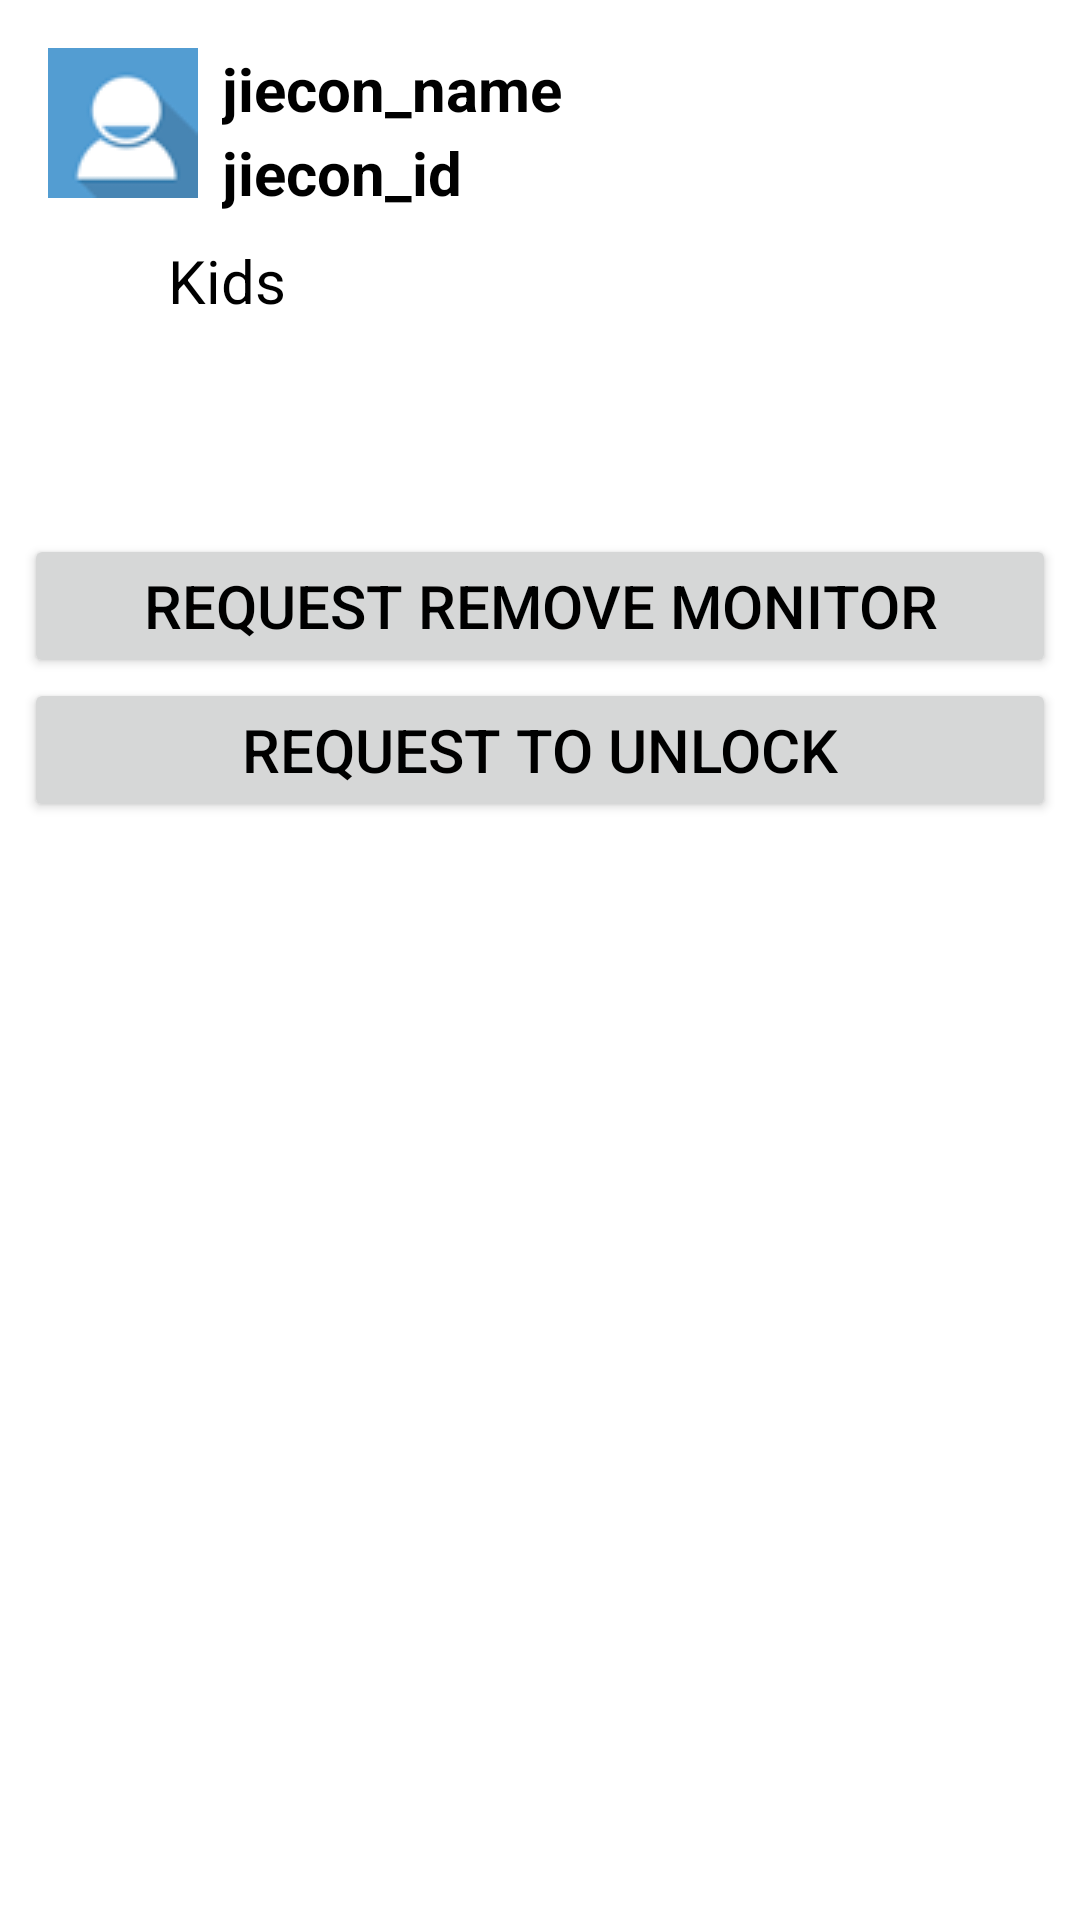

Named icons in this screenshot (1080×1920) and their centers, [x,y]:
contact: [123,123]
